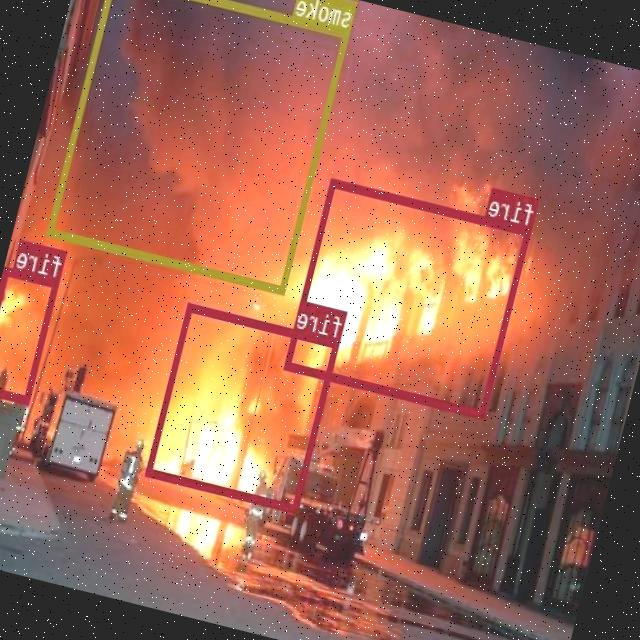fire: (285, 176, 532, 416), (145, 301, 341, 513), (0, 266, 60, 402)
smoke: (47, 0, 351, 293)
